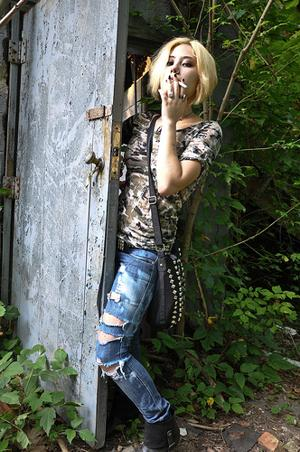person: (94, 33, 222, 452)
